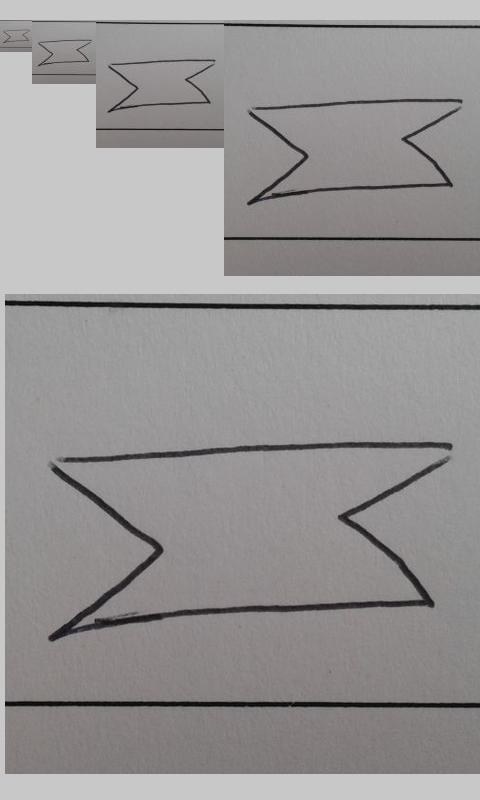edit_text: (41, 437, 457, 646), (248, 98, 464, 207), (108, 58, 217, 112), (38, 39, 92, 65), (3, 29, 30, 43)
